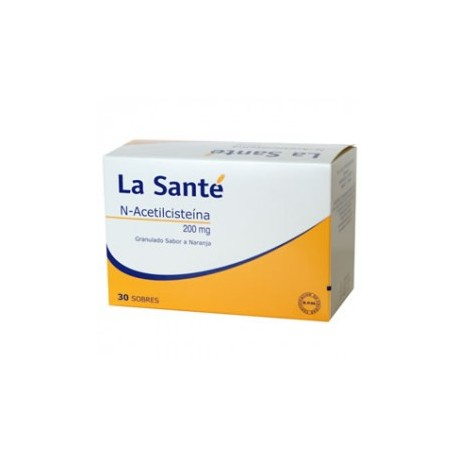LaSante: (108, 158, 331, 322)
